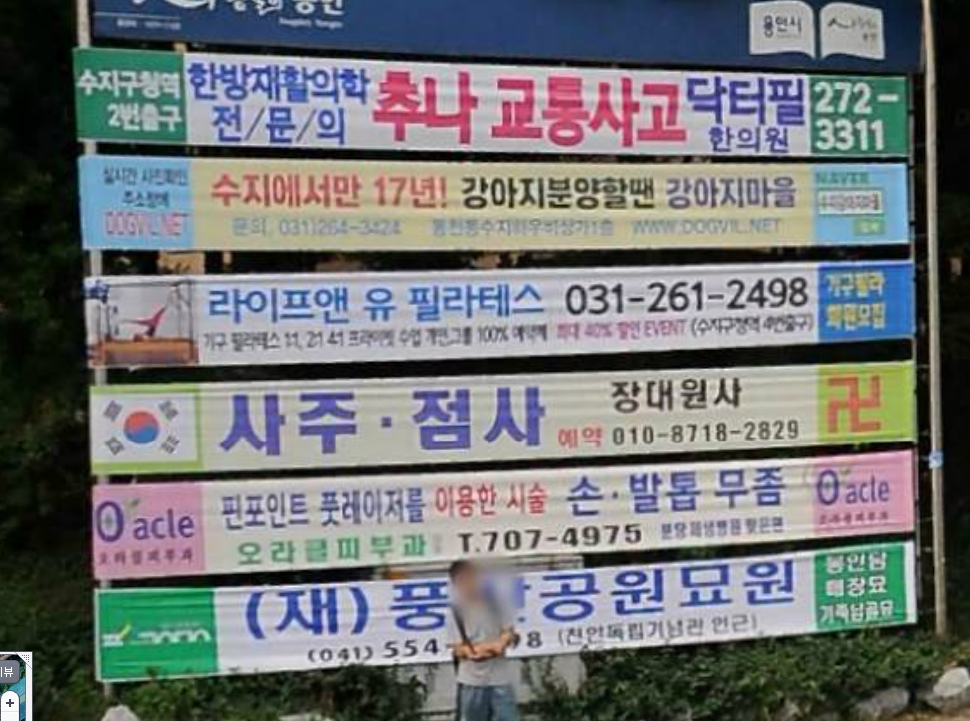banner: (82, 535, 927, 686), (67, 445, 926, 583), (74, 353, 934, 483), (68, 42, 916, 163), (72, 257, 931, 371), (71, 147, 907, 257)
